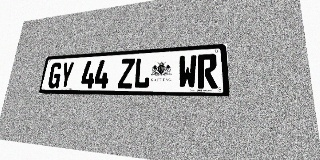4: (80, 60, 97, 88), (93, 60, 110, 88)
G: (47, 62, 63, 88)
L: (133, 57, 151, 88)
R: (197, 54, 218, 88)
W: (178, 55, 197, 88)
Y: (59, 62, 75, 88)
Z: (117, 58, 135, 88)
